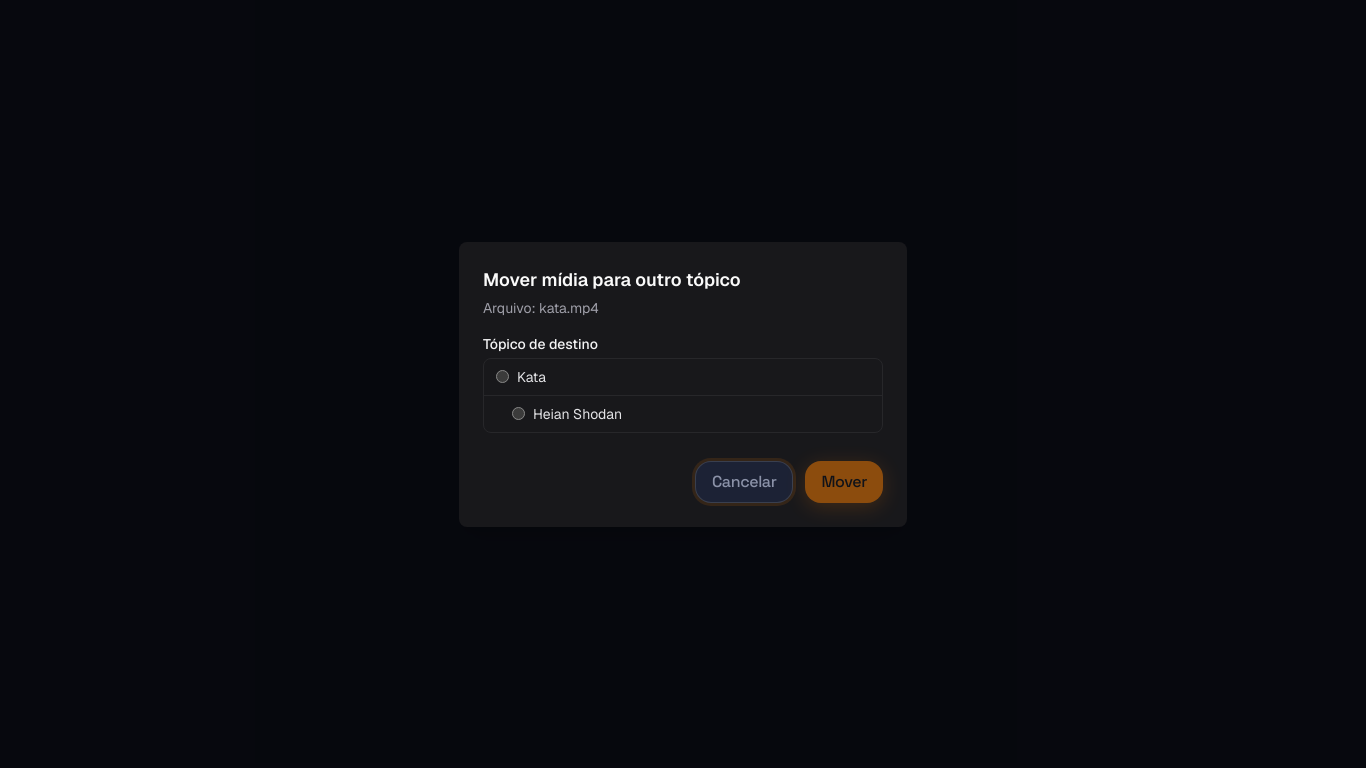
it: MoveMediaDialog › on 409 stays open and shows the matching message
Click the radio button labelled "Kata" at (502, 376), box [496,370,509,383]
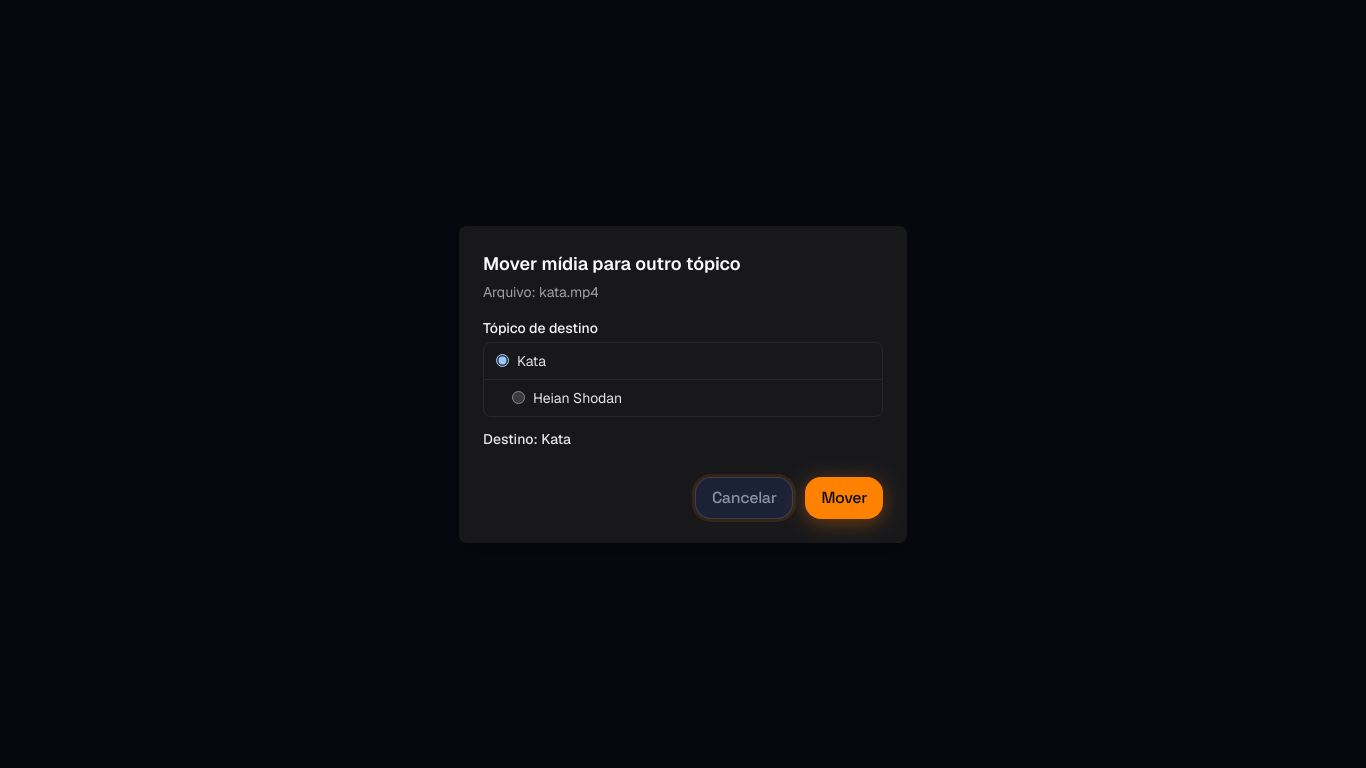
Click the button "Mover" at (844, 498), box [806,476,883,518]
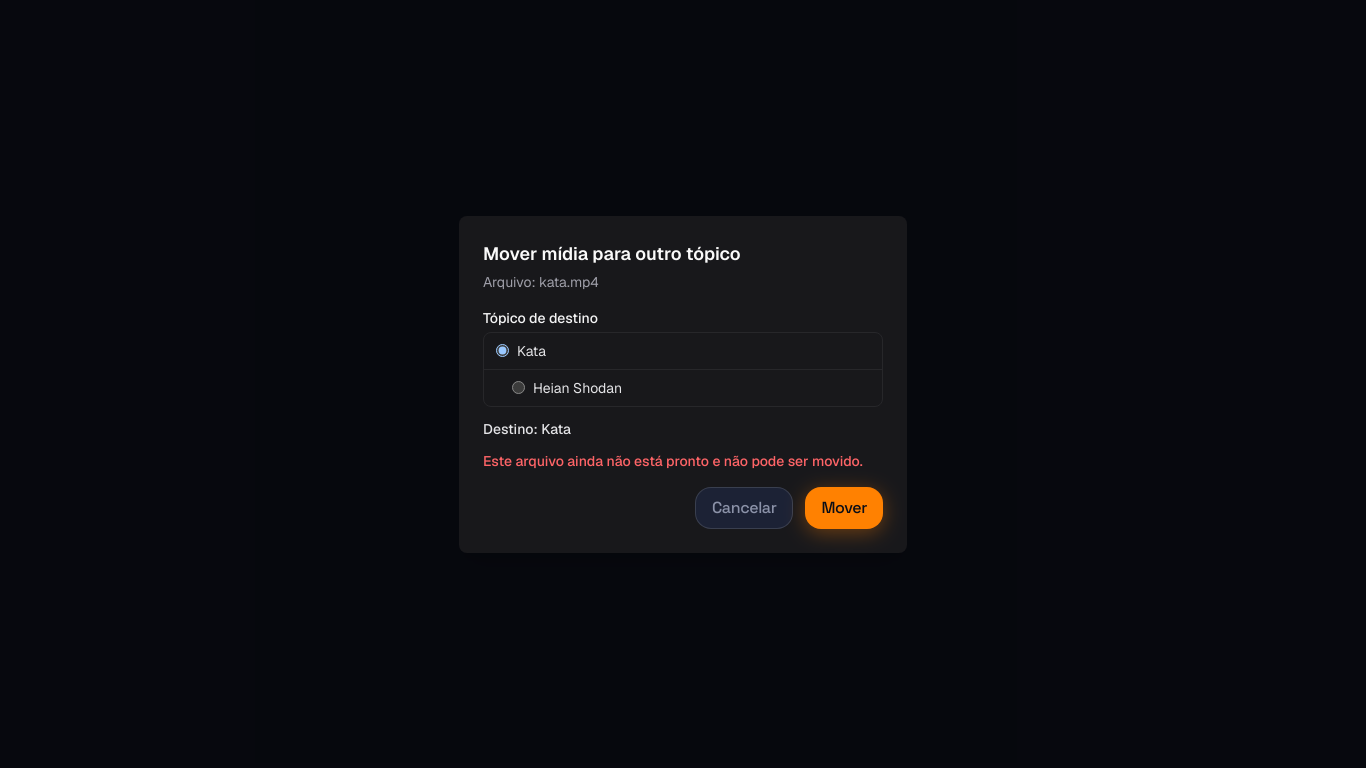
Expected: the dialog is shown, [459,216,907,552]
Now the text "Este arquivo ainda não está pronto e não pode ser movido." is shown, box [483,452,863,470]
